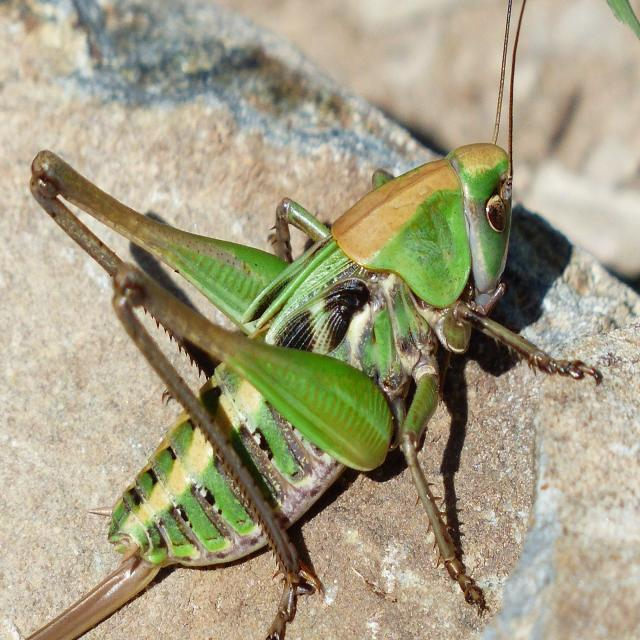ZhaMeng: (21, 6, 604, 632)
